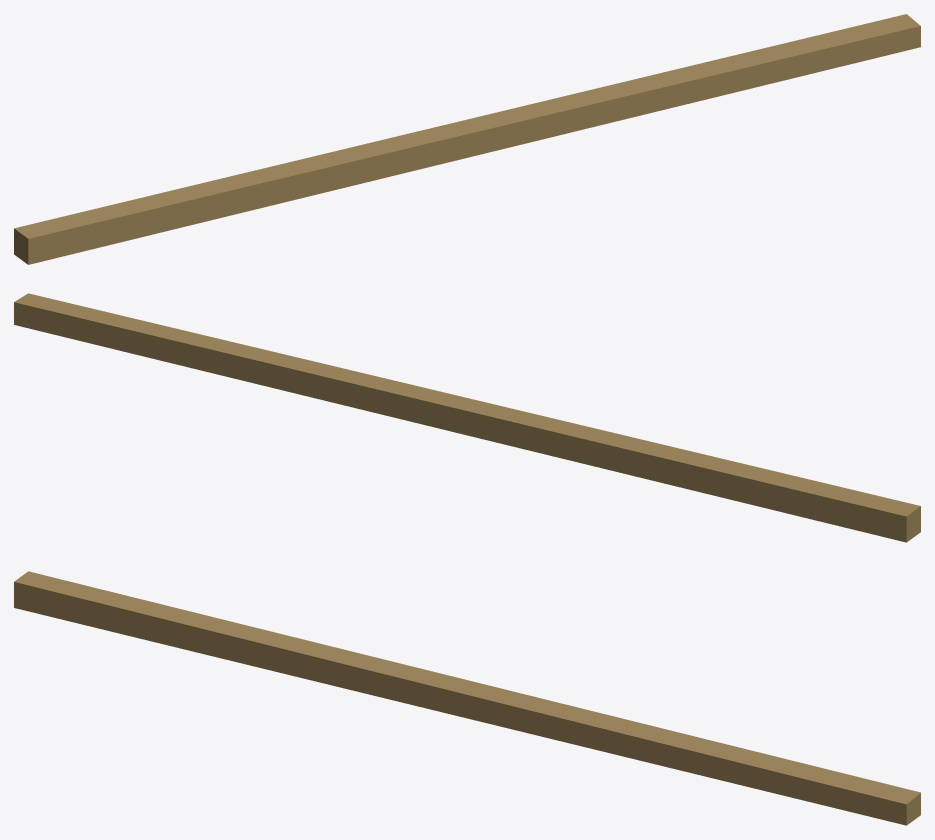
Rendered from Beam_Small_02.fbx.
The picture shows the model from 3 angles, top to bottom: view 1: azimuth 30°, elevation 25°; view 2: azimuth 150°, elevation 25°; view 3: azimuth 330°, elevation 25°; orthographic projection.
Visible parts, largest first — view 1: Beam_Small_02; view 2: Beam_Small_02; view 3: Beam_Small_02.
Boxes of the visible parts, bbox=[...] form: Beam_Small_02: bbox=[14, 14, 920, 264]; Beam_Small_02: bbox=[14, 293, 920, 542]; Beam_Small_02: bbox=[14, 571, 920, 825].
Size of the model in its own units: 291 by 8.13 by 8.13.
